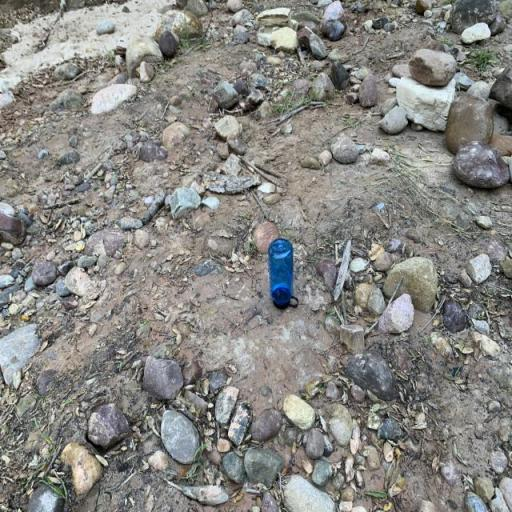bottle: (268, 239, 299, 310)
